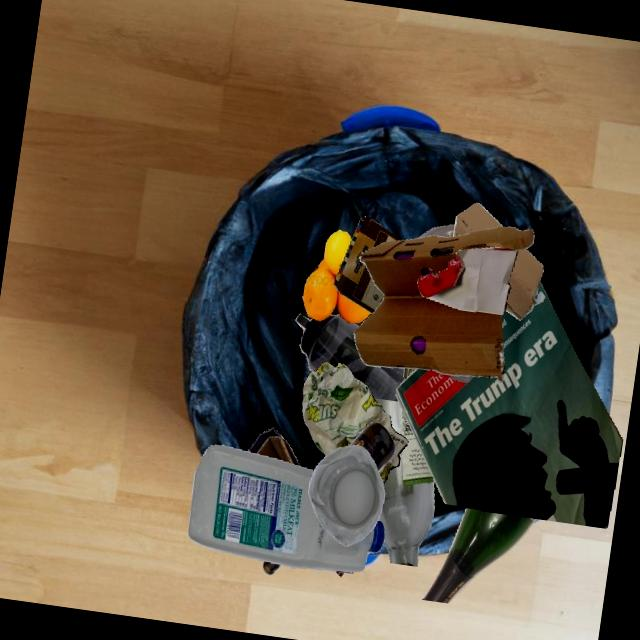biowaste: (302, 230, 371, 323)
cardboard: (354, 227, 534, 382), (334, 217, 403, 313), (505, 248, 545, 321), (248, 427, 300, 466), (454, 202, 504, 237)
glass: (421, 508, 536, 604), (374, 398, 434, 567), (349, 422, 395, 472), (450, 375, 473, 383), (404, 368, 416, 381)
paper: (396, 281, 623, 528), (301, 362, 408, 485), (418, 247, 518, 315)
plastic: (188, 445, 384, 572), (295, 314, 404, 402), (308, 445, 385, 547), (416, 224, 455, 239)
